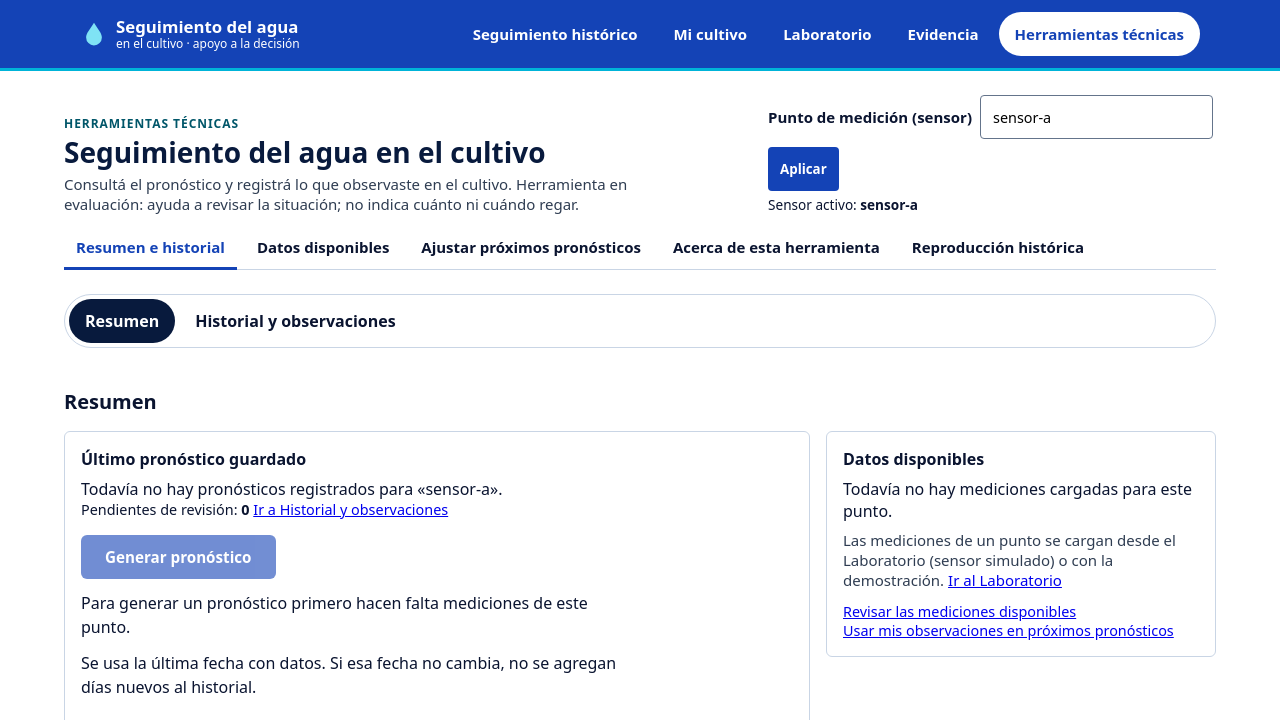
Test: App — cabecera de sensor › applies a valid sensor id and queries the new sensor's resources
Replace the text in the field labelled "Punto de medición (sensor)" with "sensor-b" at (1096, 117), box [980,95,1213,139]
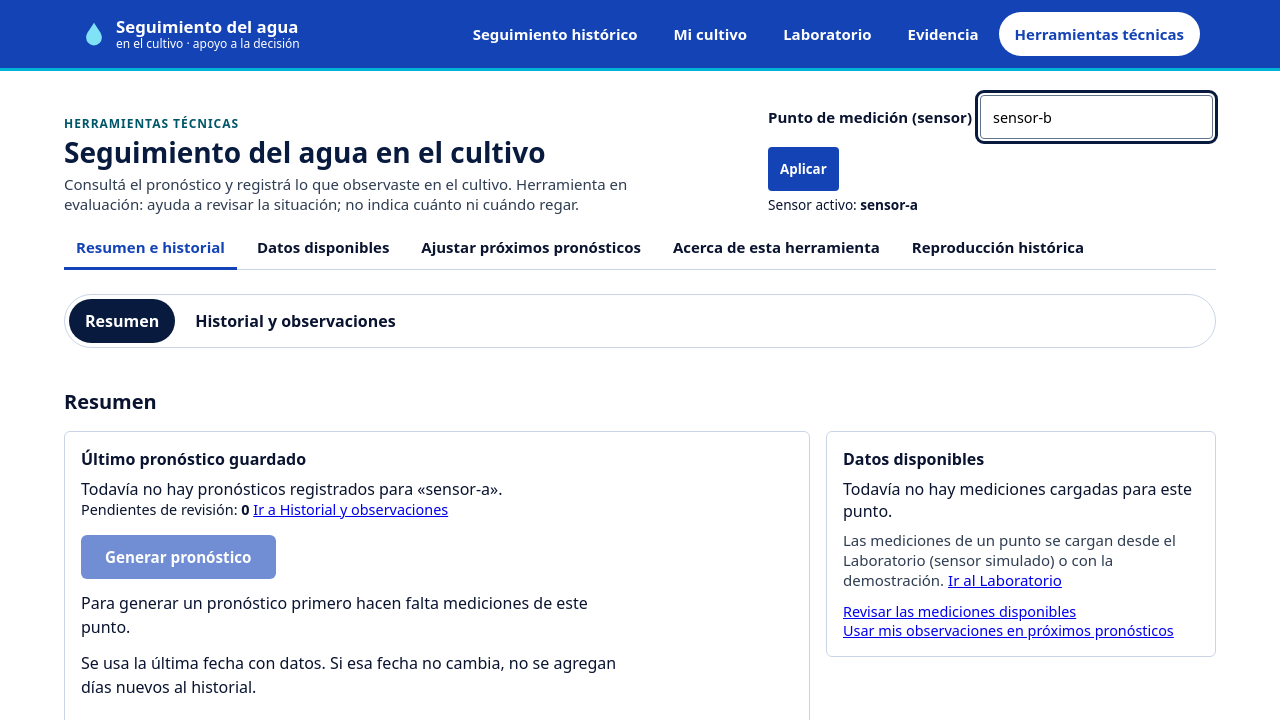
Click the button "Aplicar" at (803, 169), box [768,147,839,191]
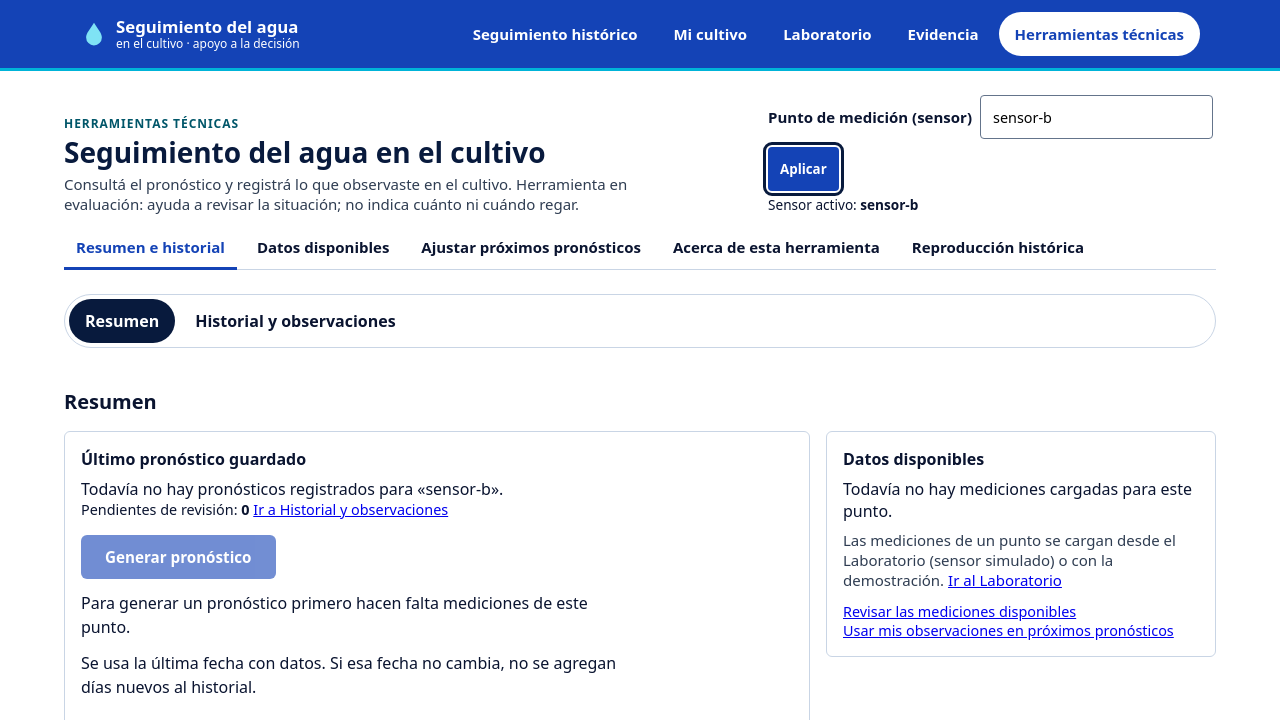
Now the text "Sensor activo: sensor-b" is shown, box [768,195,918,214]
